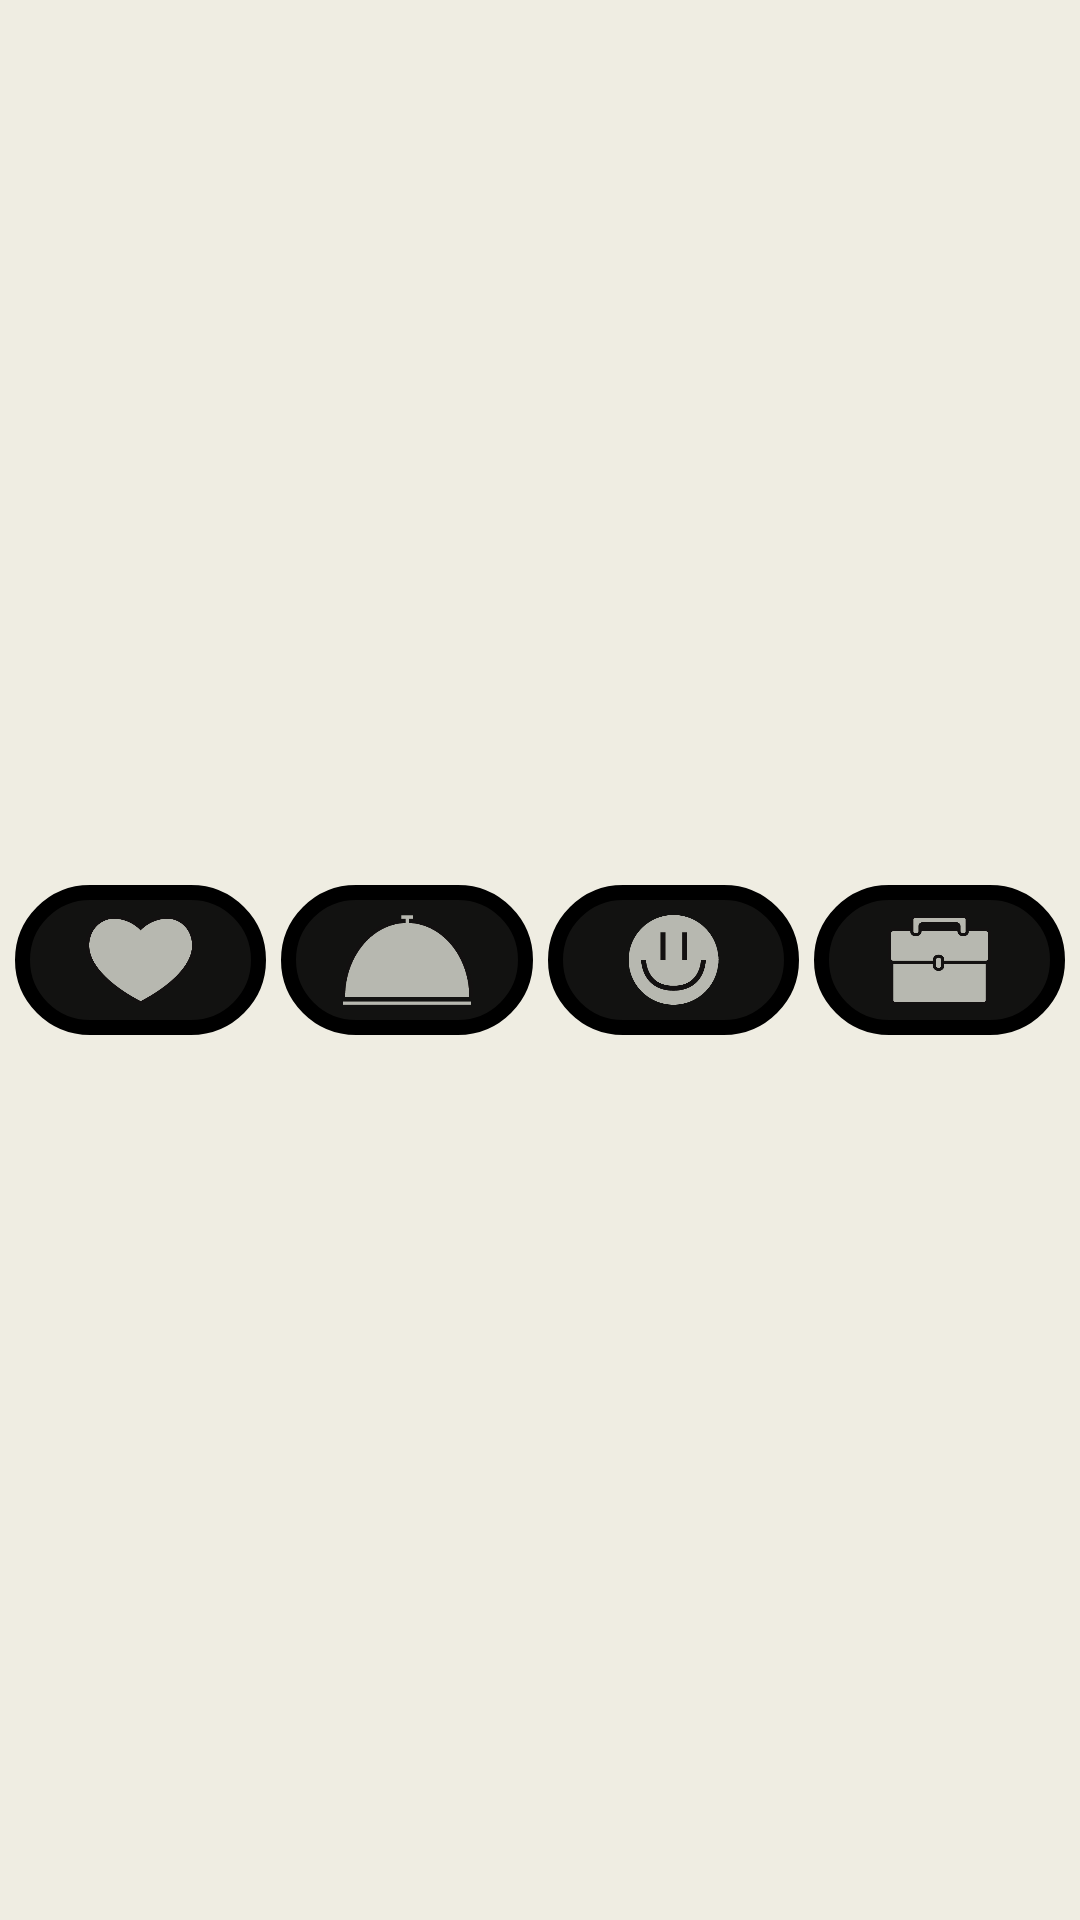

Locate icon controls on the screen. Image size 1080 × 1920, boxes as [x1, y1, x2, y2].
heart clean: [15, 885, 266, 1035]
hunger clean: [281, 885, 533, 1035]
jobs clean: [814, 885, 1065, 1035]
mood clean: [548, 885, 799, 1035]
